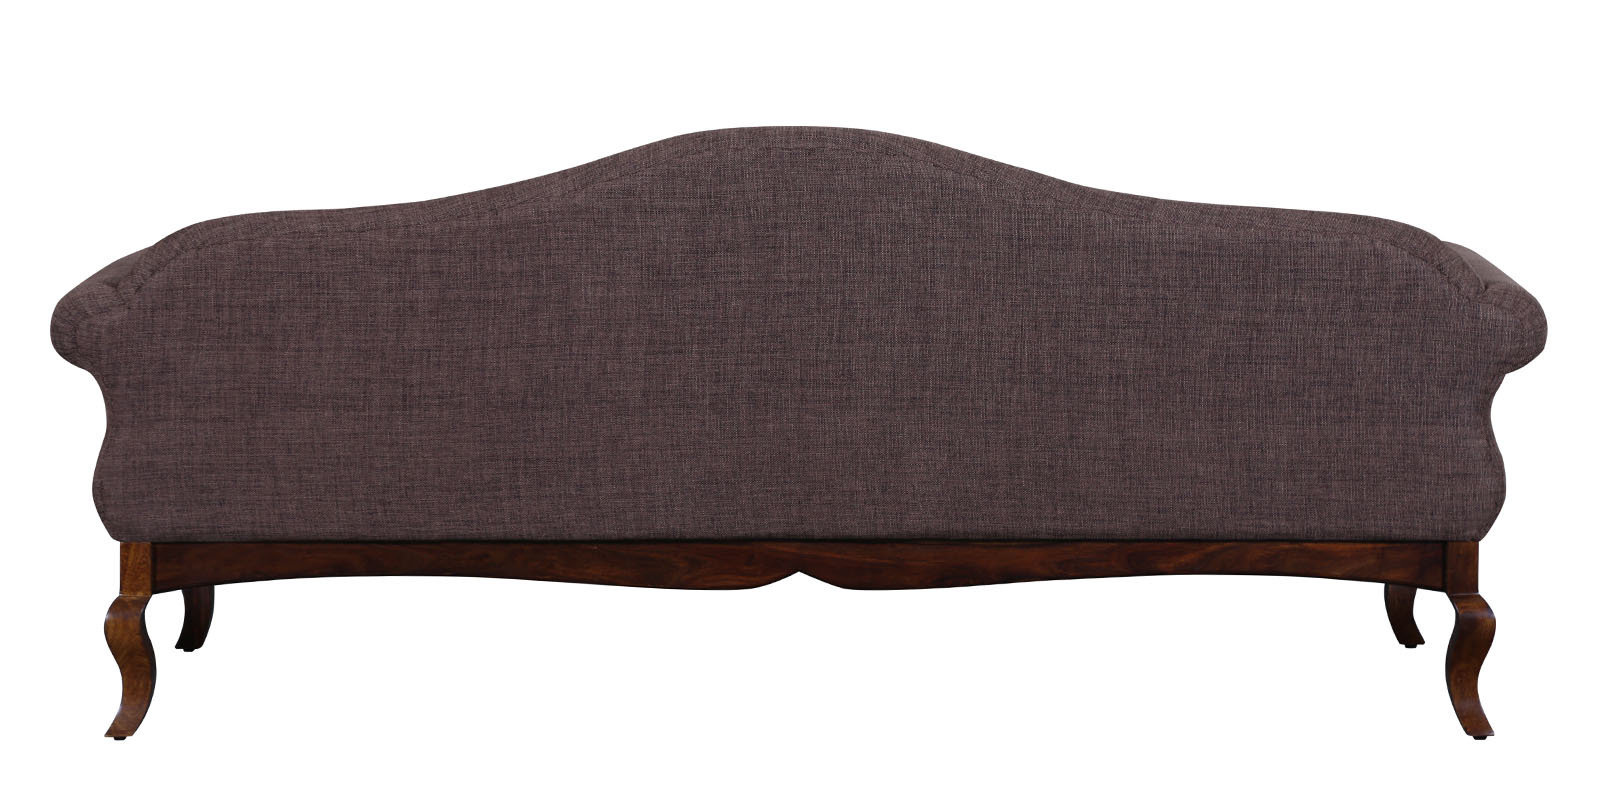Anne Three Seater Sofa in Provincial Teak Finish by Amberville: (28, 117, 1552, 746)
